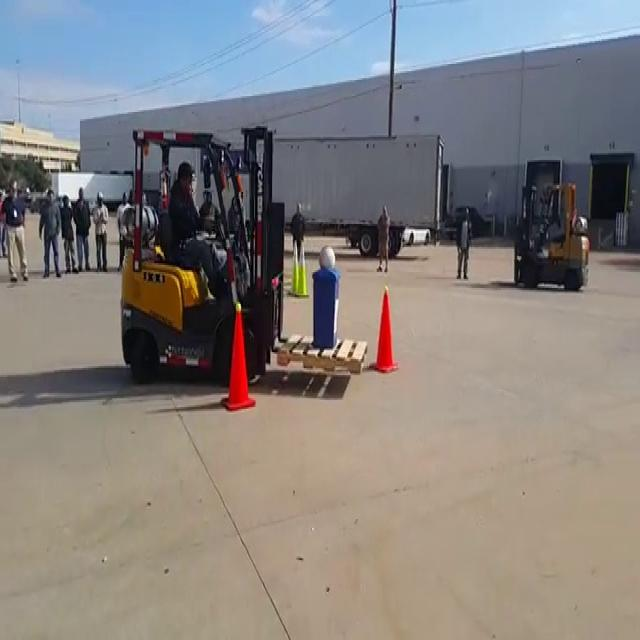Chariot elevateur: (113, 119, 280, 395), (508, 170, 596, 300)
